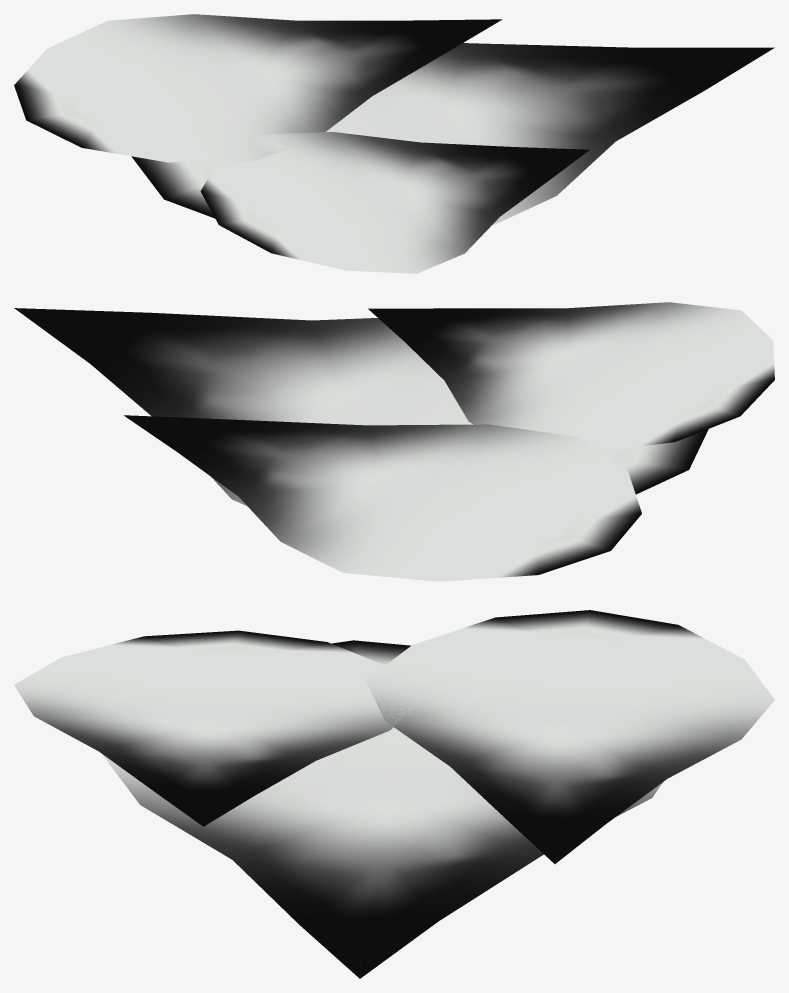
Rendered from waterfall_bottomsplash_01.fbx.
The picture shows the model from 3 angles, top to bottom: view 1: azimuth 30°, elevation 25°; view 2: azimuth 150°, elevation 25°; view 3: azimuth 270°, elevation 25°; orthographic projection. The views are drawn at different scales.
Visible parts, largest first — view 1: obj0.190; view 2: obj0.190; view 3: obj0.190.
Part boxes in pixels (x1=…): obj0.190: x1=14, y1=14, x2=774, y2=273; obj0.190: x1=14, y1=302, x2=774, y2=581; obj0.190: x1=14, y1=610, x2=774, y2=978.
Size of the model in its own units: 9.58 by 0.1505 by 8.63.
